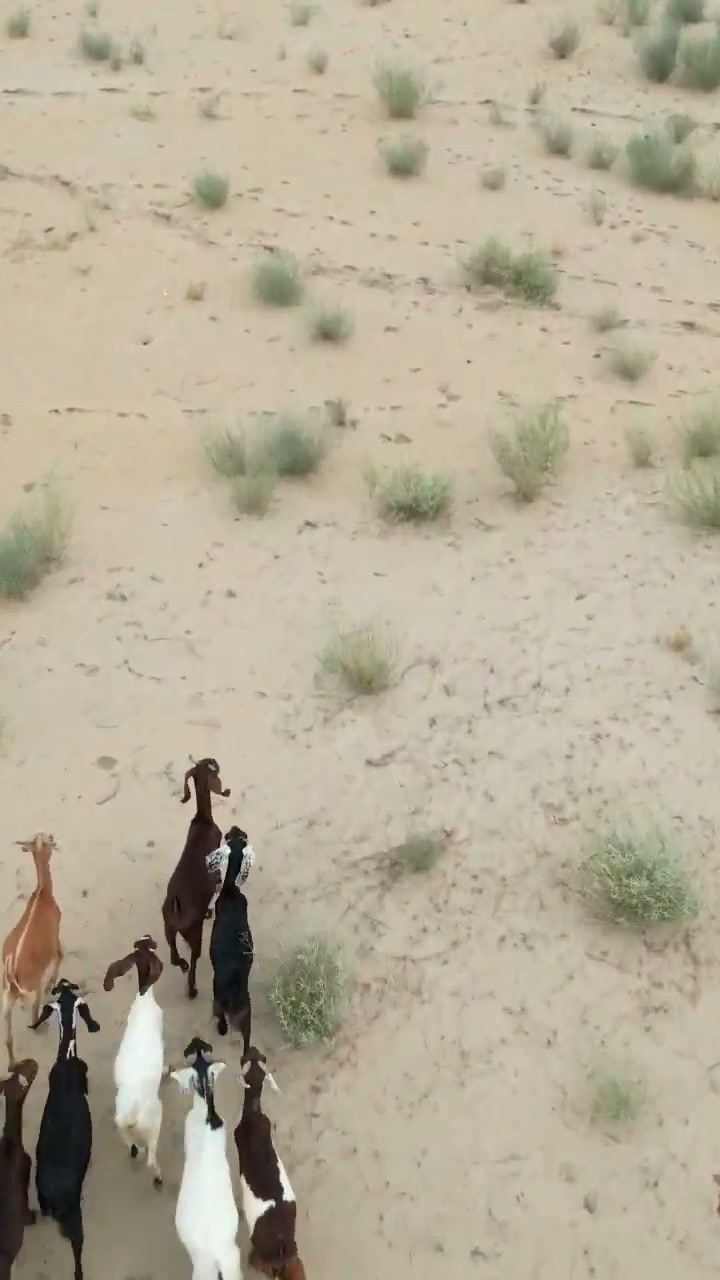animal_foot_print: (273, 1007, 376, 1256)
